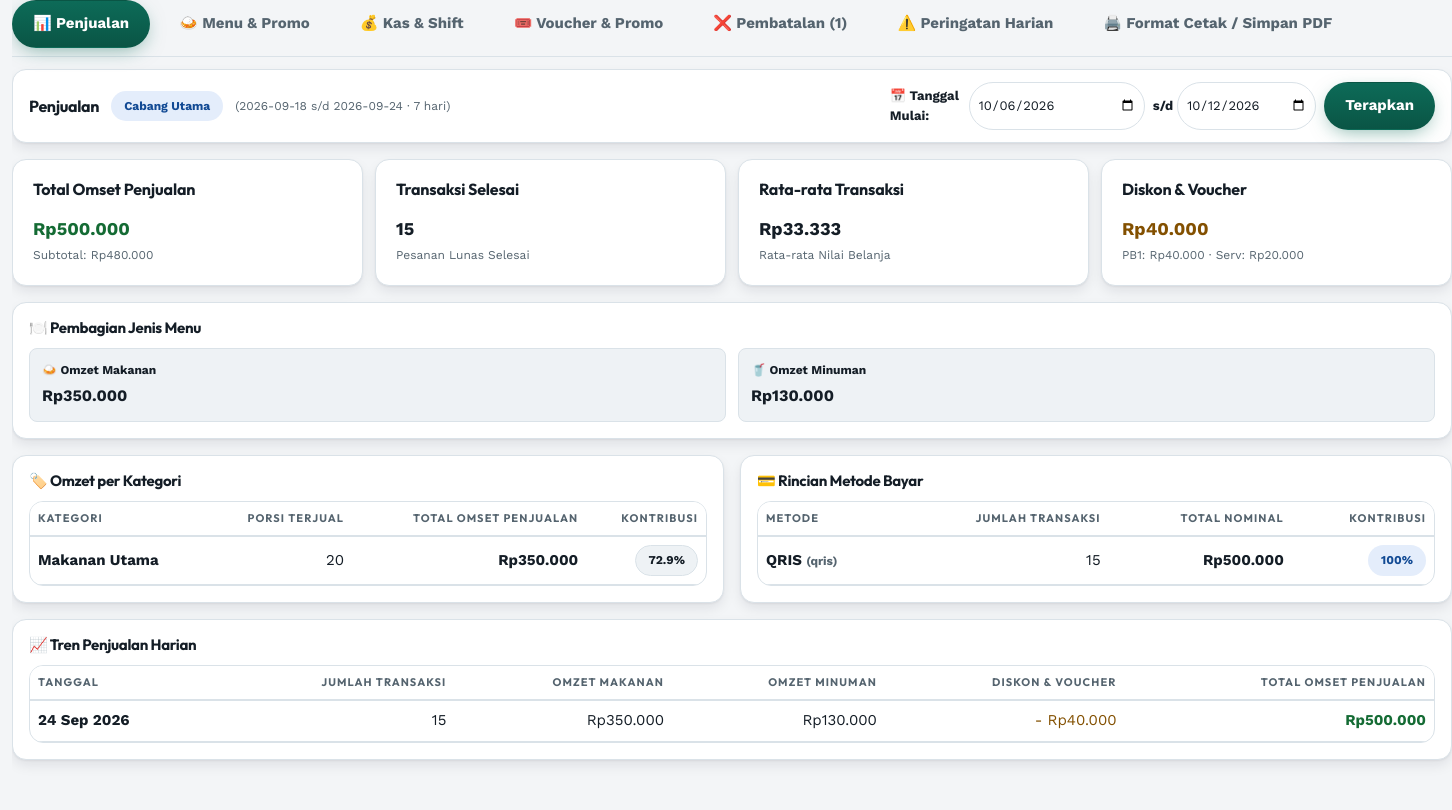
LayarLaporan › dapat berpindah ke tab Format Siap Cetak dan menampilkan lembar laporan cetak
Click the button "🖨️ Format Cetak / Simpan PDF". click: (1218,24)
box: [1082,0,1353,48]
(page scrolled)
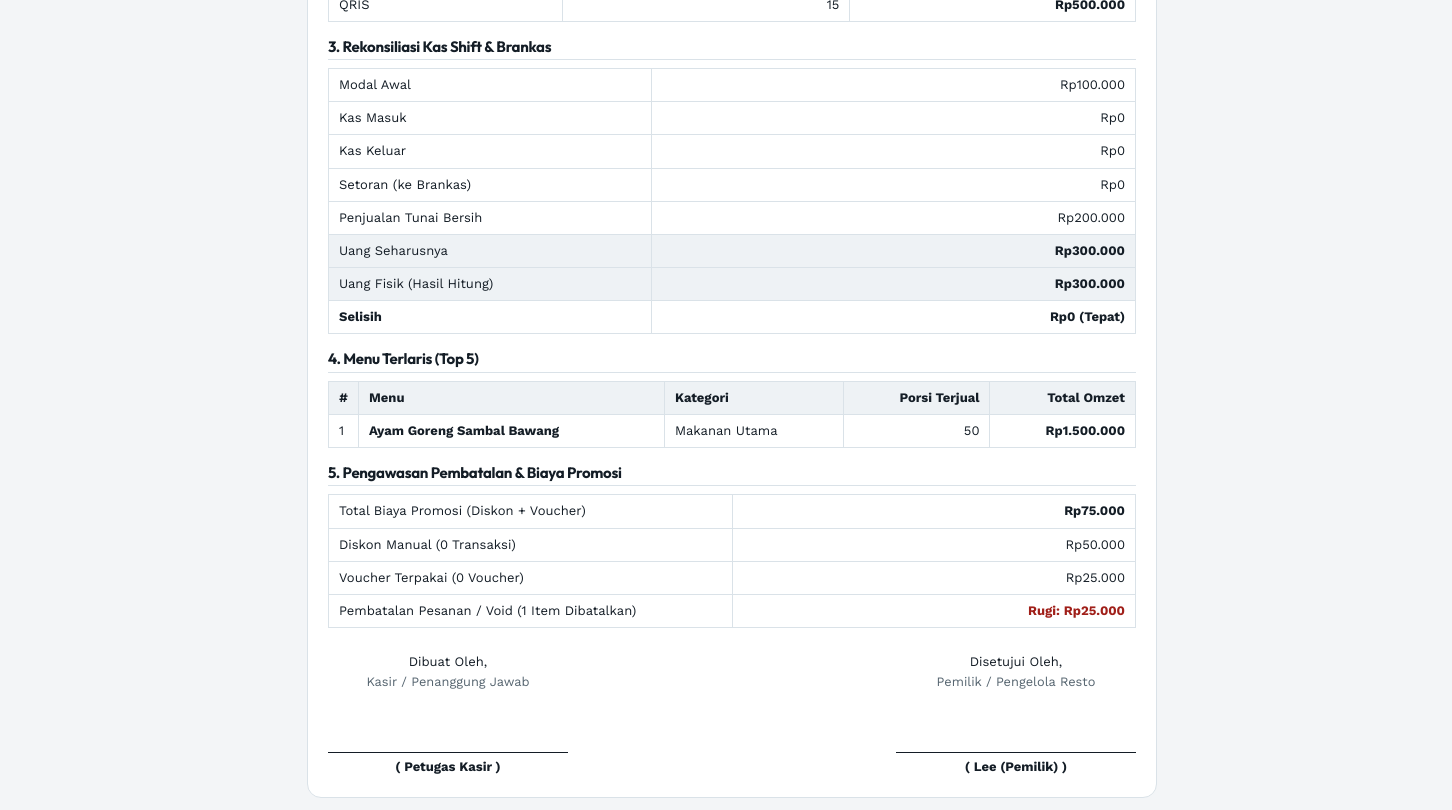
Expected: the text "Dibuat Oleh," is shown, [409,654,487,669]
